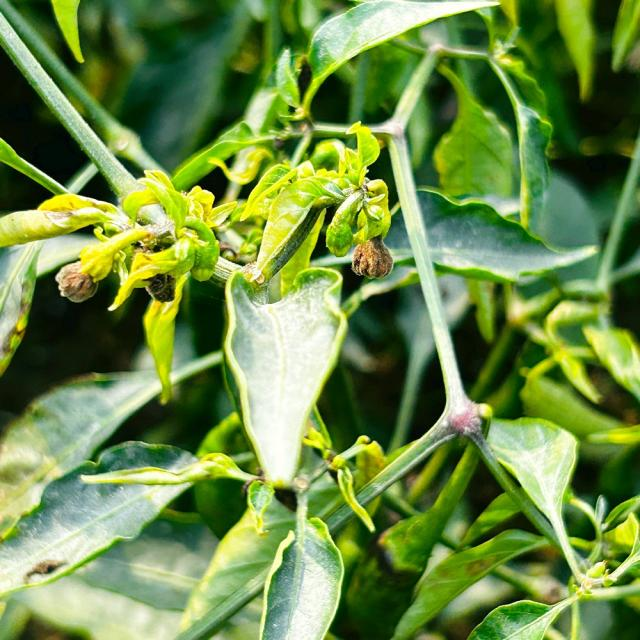Chilli_Leaf_Curl: (1, 1, 638, 638), (3, 119, 391, 405), (38, 167, 237, 405), (220, 264, 349, 490), (238, 120, 392, 289), (290, 0, 500, 119), (480, 412, 590, 588), (258, 511, 344, 639)
